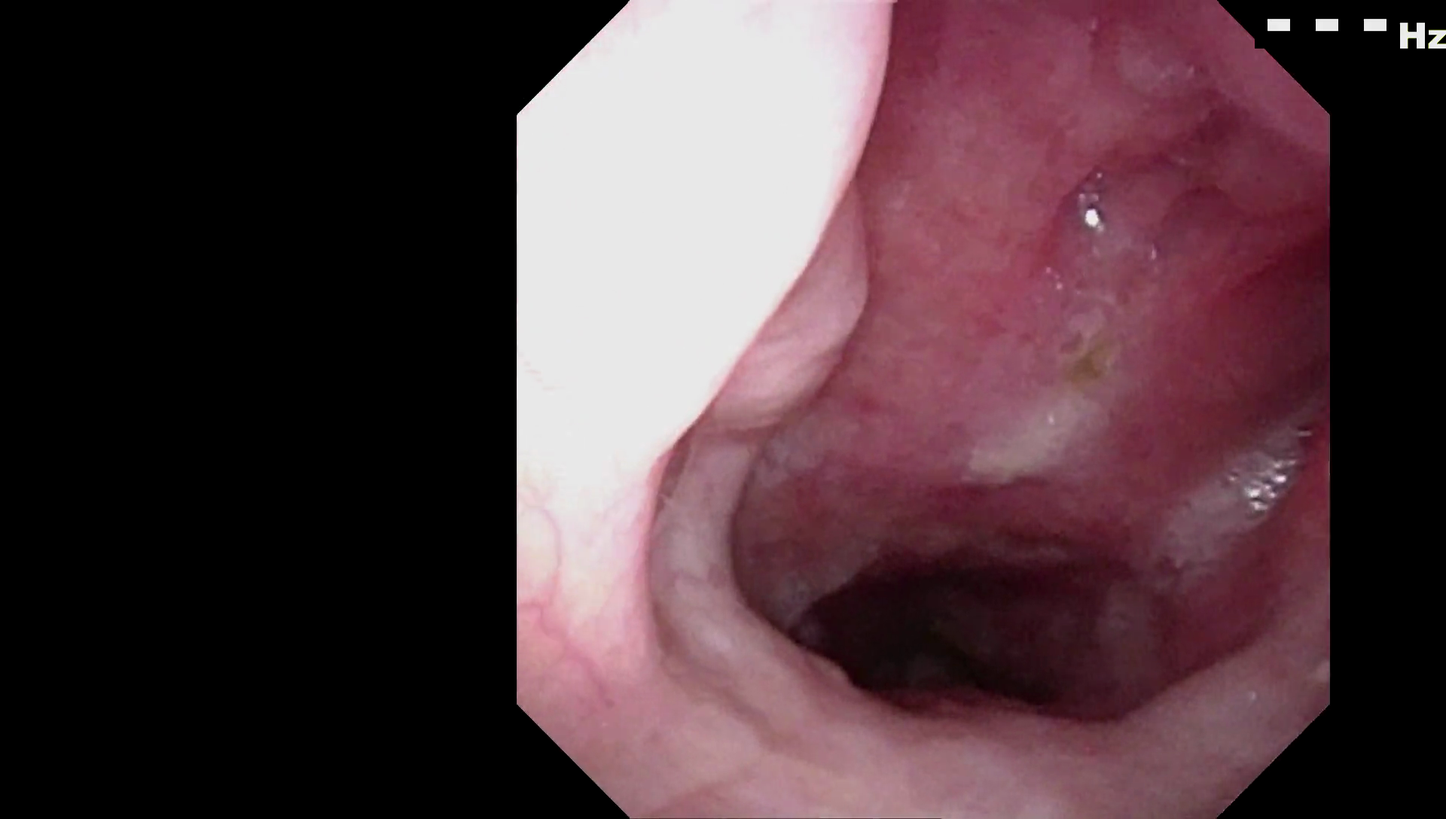close_wall: (569, 72, 888, 476)
next: (757, 508, 1107, 738)
